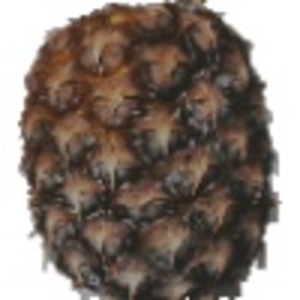abacaxi: (16, 2, 281, 298)
